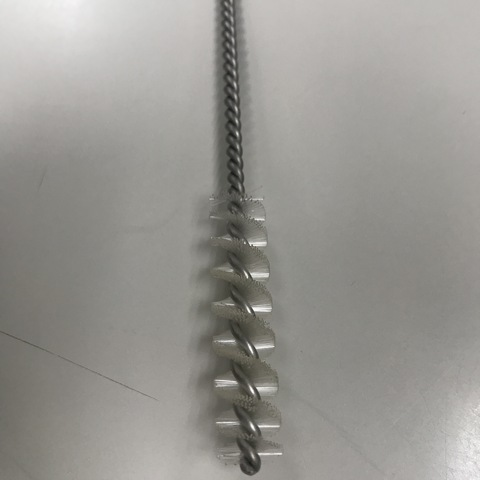Twist Brush-B: (200, 1, 290, 478)
